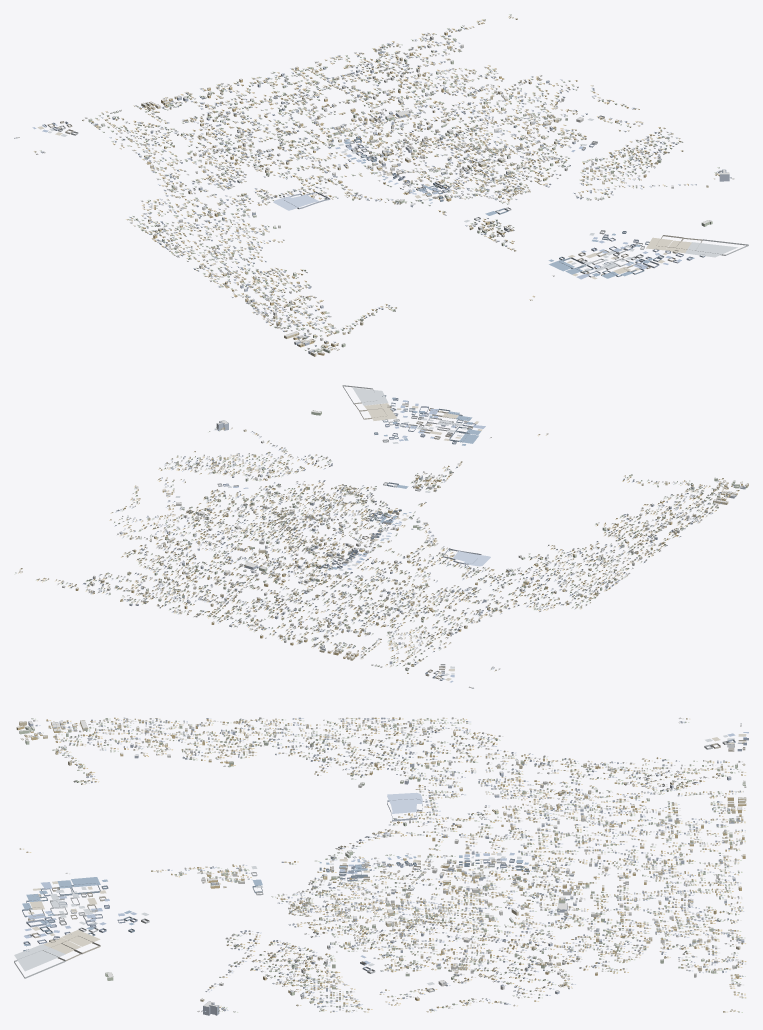
3 renders of one model, top to bottom at view 1: azimuth 30°, elevation 25°; view 2: azimuth 150°, elevation 25°; view 3: azimuth 270°, elevation 25°, orthographic. The views are drawn at different scales.
Visible parts, largest first — view 1: house, roof_zinc, apartment, factory, roof_flat; view 2: house, roof_zinc, apartment, factory, roof_flat; view 3: house, roof_zinc, apartment, roof_flat, factory.
Part boxes in pixels (<box>): house: <box>34,14,734,350</box>; roof_zinc: <box>32,14,737,350</box>; apartment: <box>14,29,729,356</box>; factory: <box>42,115,748,277</box>; roof_flat: <box>14,29,729,353</box>; house: <box>15,427,747,670</box>; roof_zinc: <box>14,387,746,682</box>; apartment: <box>62,410,748,688</box>; factory: <box>166,385,481,680</box>; roof_flat: <box>62,410,748,688</box>; house: <box>19,717,743,1012</box>; roof_zinc: <box>14,718,748,1012</box>; apartment: <box>16,720,746,1015</box>; roof_flat: <box>17,720,746,1007</box>; factory: <box>14,738,748,992</box>.
Size of the model in its own units: 1.39e+08 by 1888631 by 1.47e+08.
